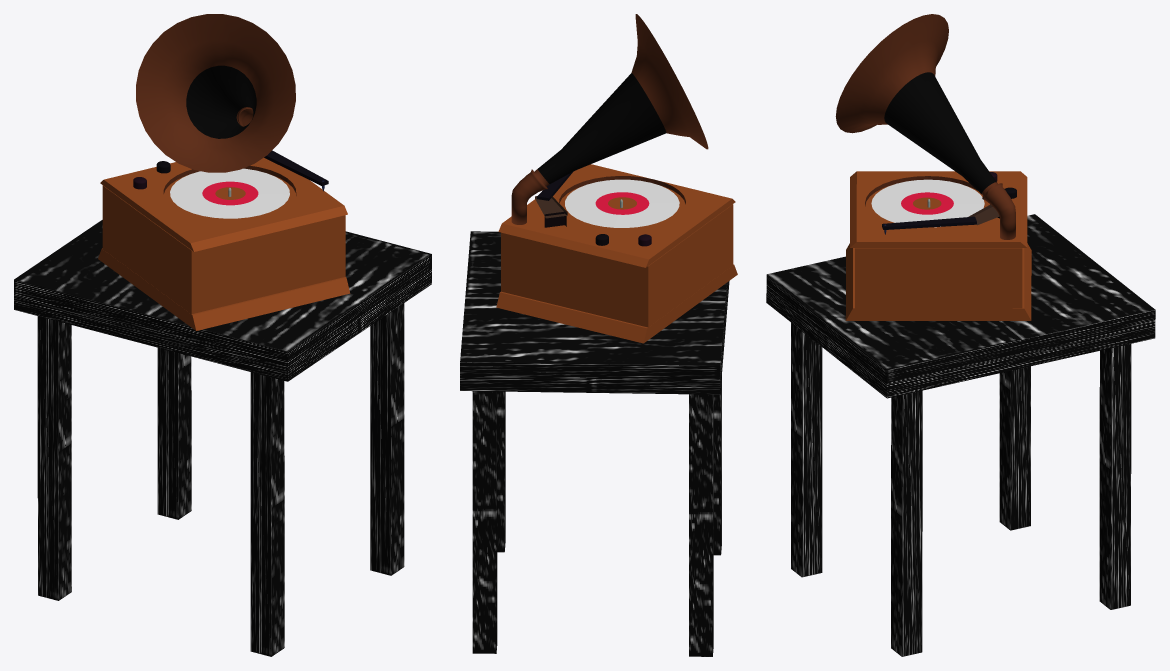
Rendered from grammofwno.fbx.
3 renders of one model, left to right at view 1: azimuth 30°, elevation 25°; view 2: azimuth 150°, elevation 25°; view 3: azimuth 270°, elevation 25°, orthographic. The views are drawn at different scales.
Parts seen in each view (by area): view 1: grammofwno.001, Cube.001; view 2: Cube.001, grammofwno.001; view 3: grammofwno.001, Cube.001.
Boxes of the visible parts, x1,y1,x2,y2 form: grammofwno.001: (14,220,431,656); Cube.001: (98,14,350,330); Cube.001: (496,14,737,343); grammofwno.001: (460,231,729,656); grammofwno.001: (766,214,1155,656); Cube.001: (835,14,1031,320).
Bounding box in the file's own units: 59.09 × 98.4 × 62.24.
